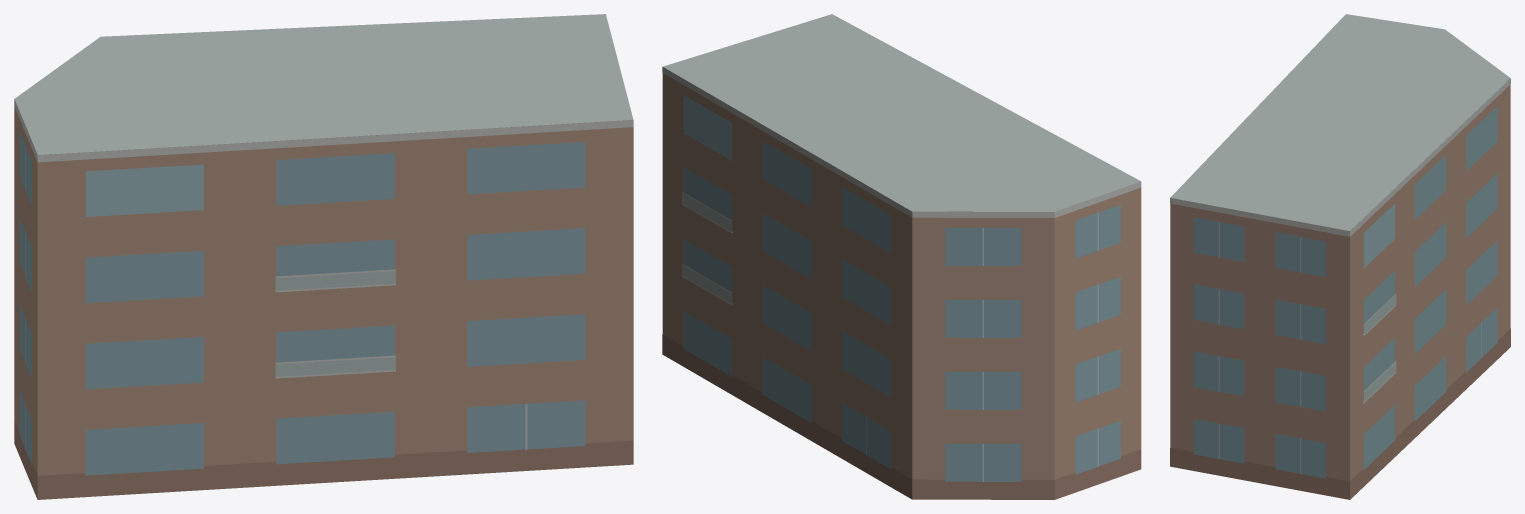
The model's file is survey-upis-32924448.glb.
The picture shows the model from 3 angles, left to right: view 1: azimuth 30°, elevation 25°; view 2: azimuth 150°, elevation 25°; view 3: azimuth 270°, elevation 25°; orthographic projection. The views are drawn at different scales.
Parts seen in each view (by area): view 1: survey-upis-32924448.tmp; view 2: survey-upis-32924448.tmp; view 3: survey-upis-32924448.tmp.
Boxes of the visible parts, left/top/right/bottom form: survey-upis-32924448.tmp: left=14, top=14, right=633, bottom=499; survey-upis-32924448.tmp: left=662, top=14, right=1141, bottom=499; survey-upis-32924448.tmp: left=1170, top=14, right=1510, bottom=499.
Size of the model in its own units: 19.94 by 11.5 by 13.22.
